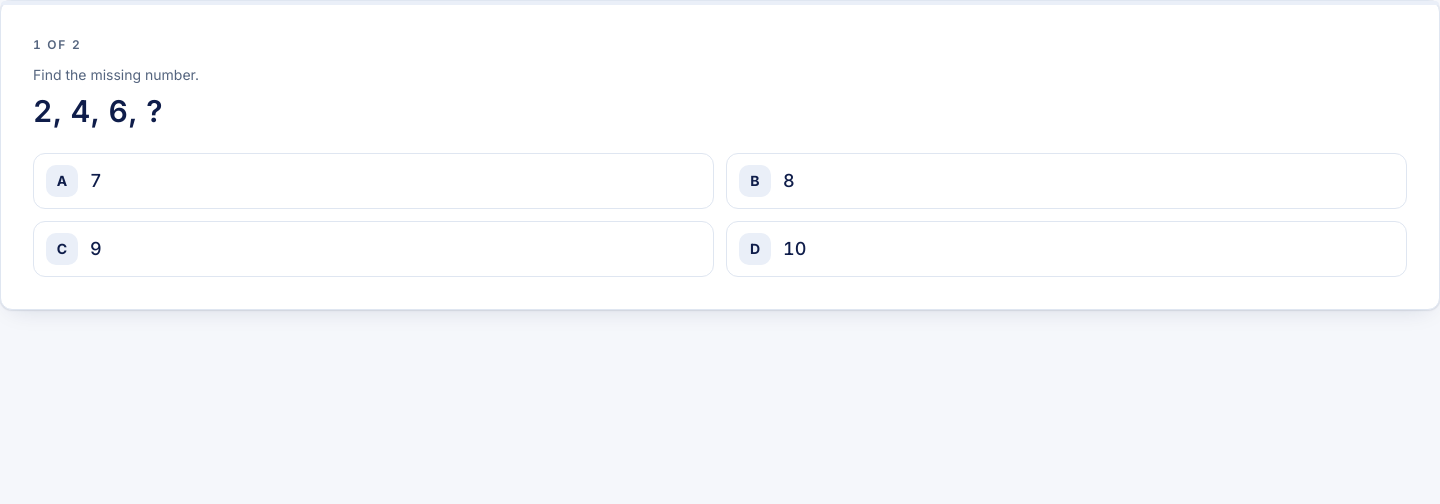
it: chapter practice › a right answer says so and shows the rule; the options lock
Click the button named "Option B": coordinates (755, 181) [726, 153, 1407, 209]
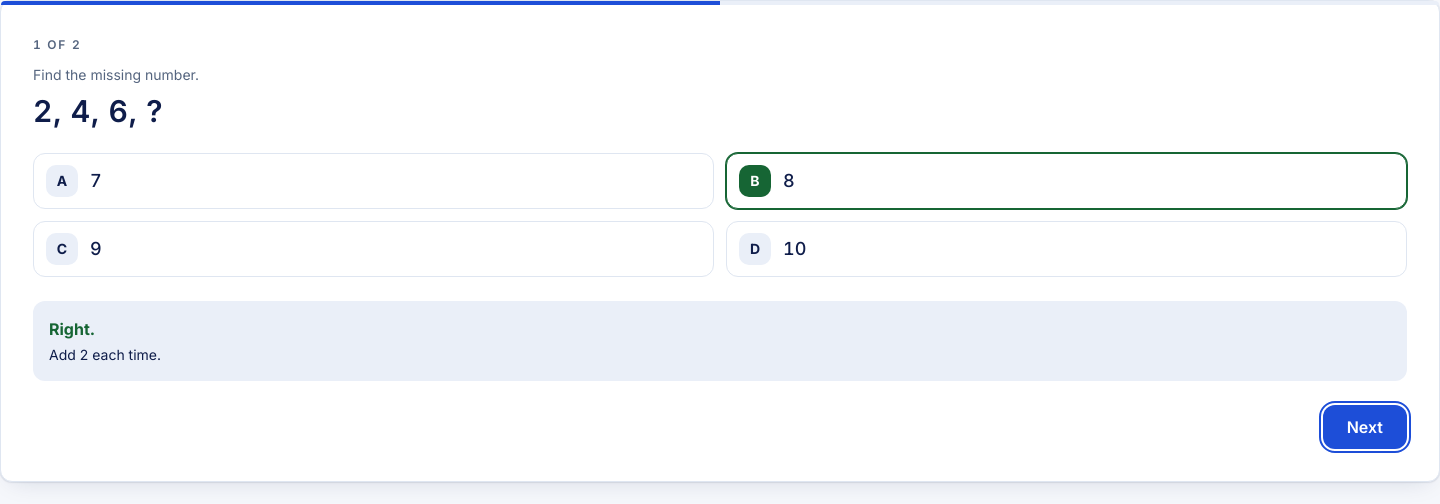
Expected: the button named "Option A" is disabled, [33, 153, 714, 209]
Expected: the message shows "Right", [49, 319, 95, 339]
Expected: the text "Add 2 each time." is shown, [49, 346, 161, 363]
